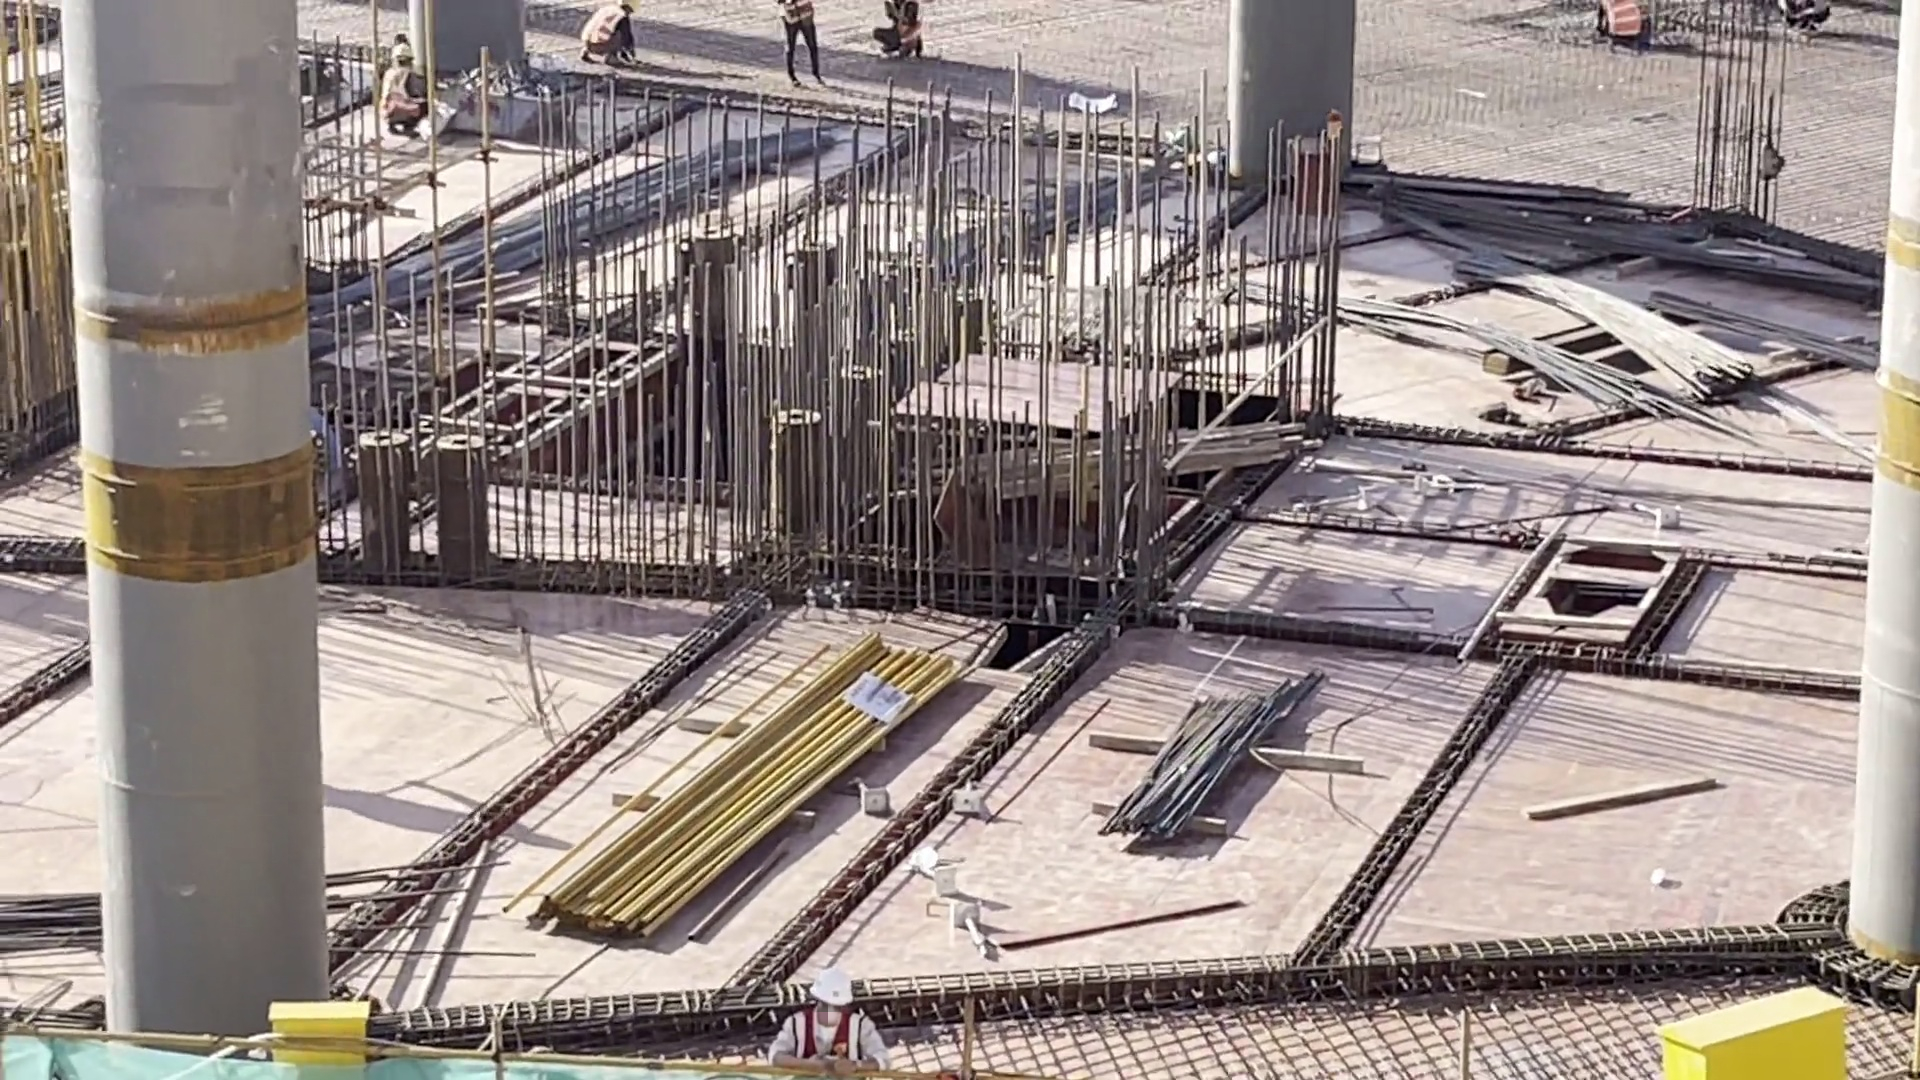ebox: (1648, 975, 1847, 1080), (256, 993, 380, 1080)
helmet: (798, 964, 850, 1016), (390, 38, 418, 60)
hopper: (414, 56, 592, 152)
person: (775, 960, 869, 1080), (367, 32, 429, 141), (776, 1, 833, 86), (582, 1, 644, 65), (874, 1, 937, 57), (1598, 1, 1649, 53)
vest: (379, 61, 422, 112), (581, 5, 624, 46)
